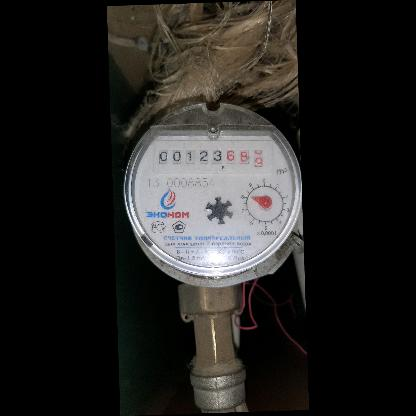digital_screen: (152, 139, 224, 170)
